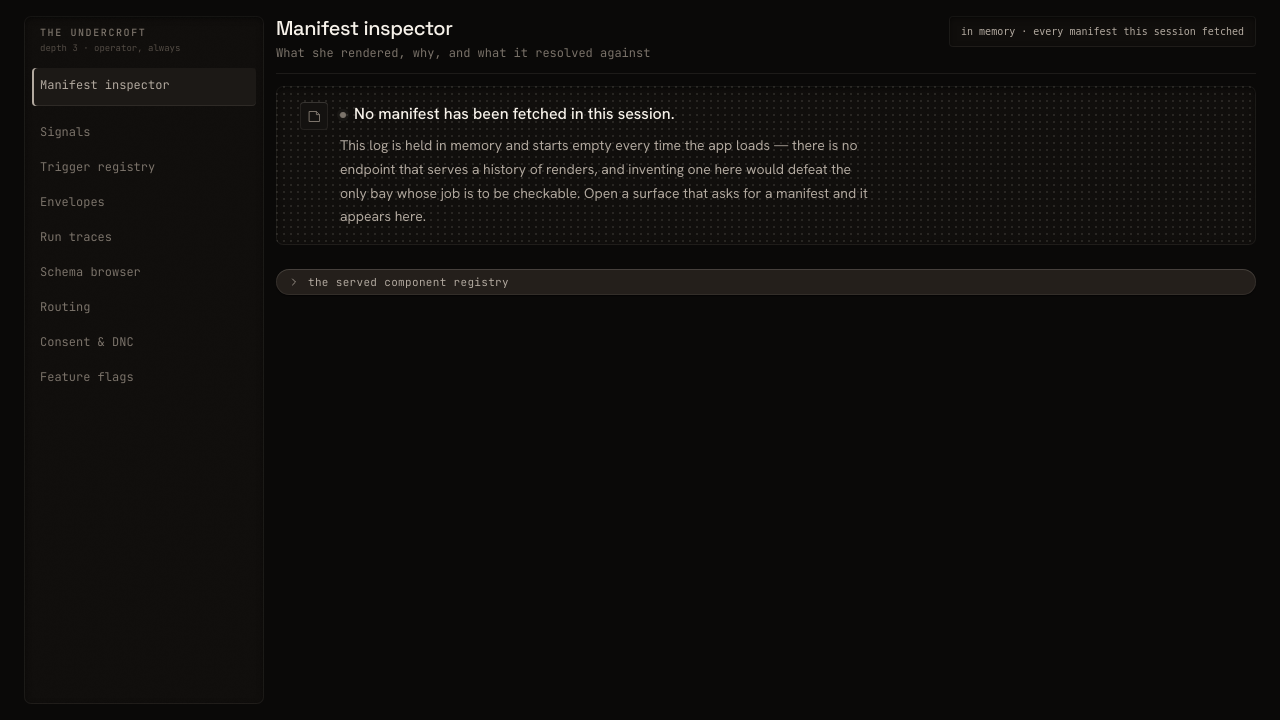
W5 — the Undercroft names endpoints that answer › prints the cost the run actually carries in the traces bay
The image size is (1280, 720).
Click the button "Run traces". click: (144, 236)
box: [32,220,256,254]
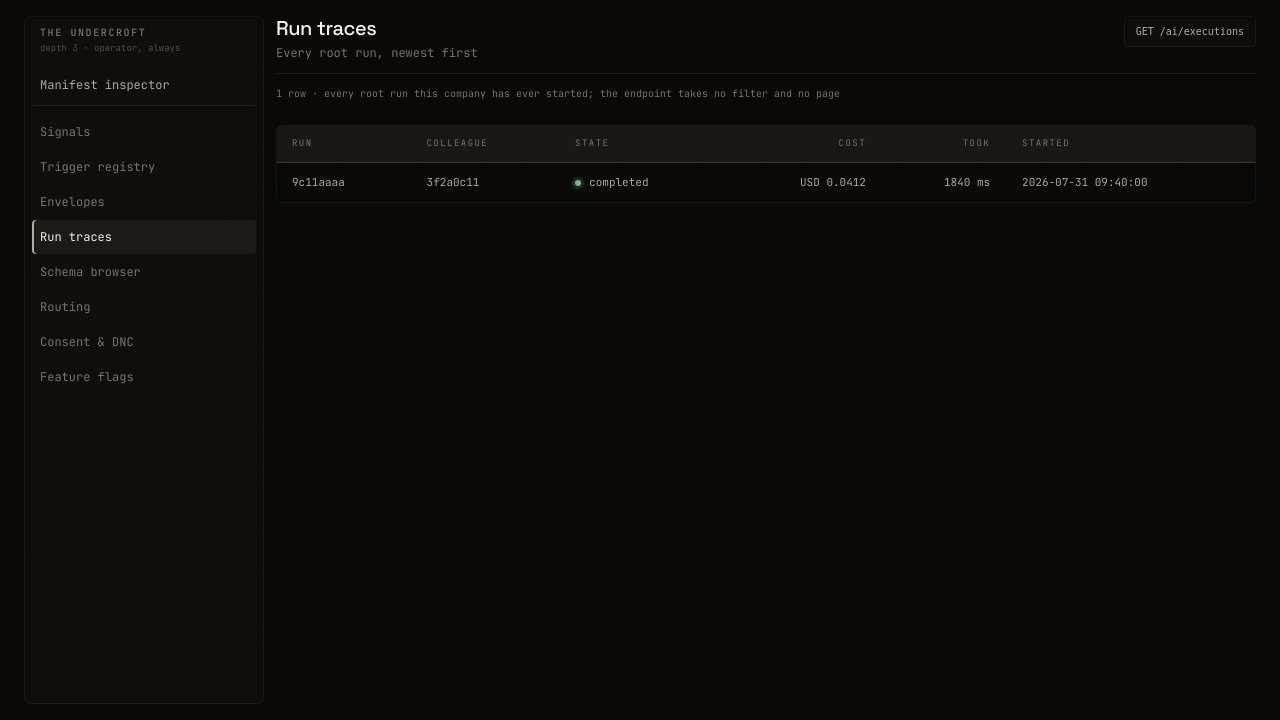
Expected: the table with class "uc-table" is shown, [276,125,1256,203]
Expected: the element with class "uc-body" shows "USD 0.0412", [276,87,1256,203]
